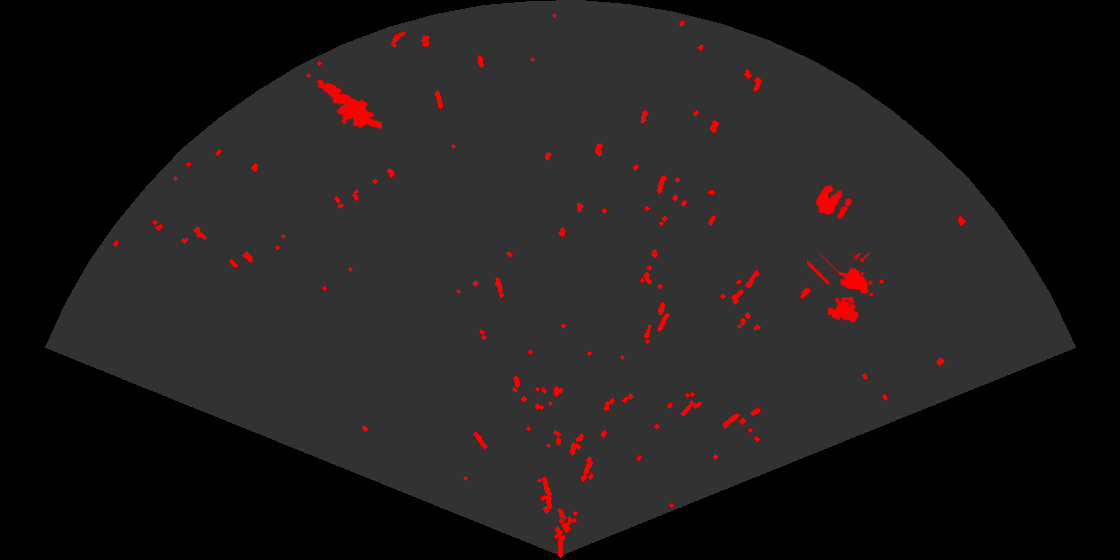ball: (814, 183, 854, 221)
cage: (807, 253, 875, 324)
frogman: (315, 78, 382, 131)
